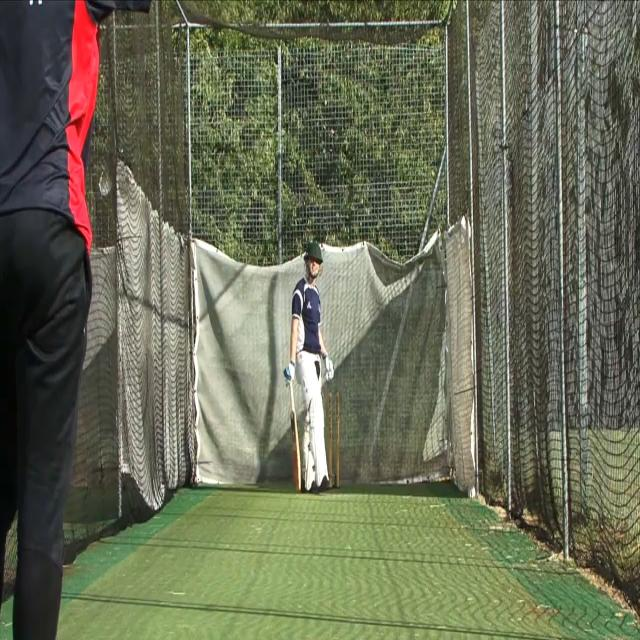batsman: (282, 239, 336, 496)
